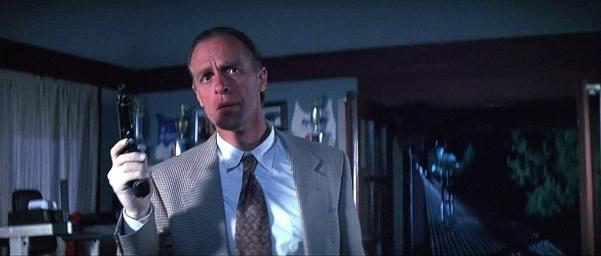Gun: (116, 81, 151, 197)
